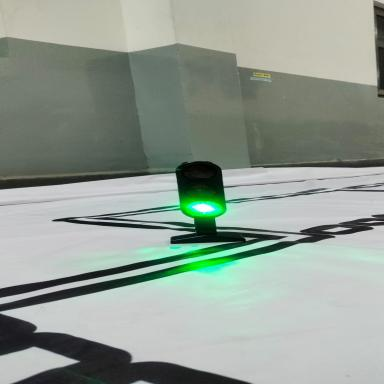green: (148, 150, 293, 271)
